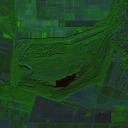alloviz: (54, 71, 80, 88)
